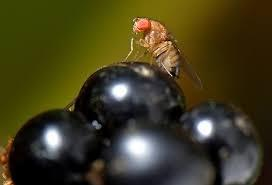Grape Rotten: (0, 60, 264, 185)
